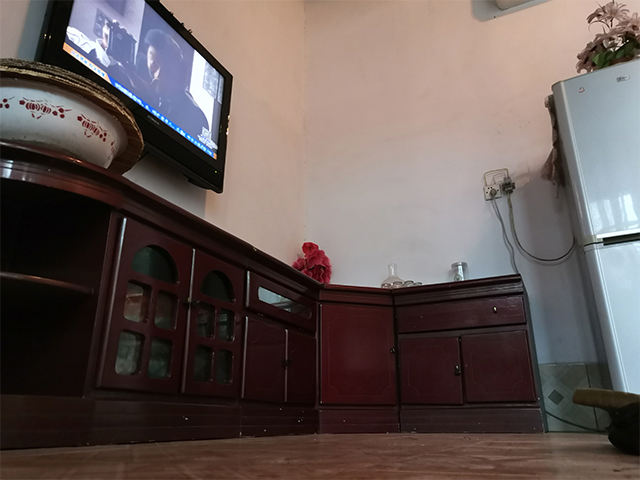cabinet: (1, 137, 548, 450)
wire: (543, 409, 612, 437)
